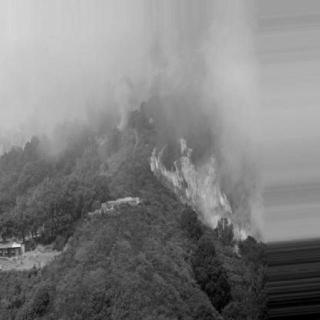Fire: (147, 130, 234, 216)
Smoke: (9, 37, 131, 145), (218, 24, 266, 213)
